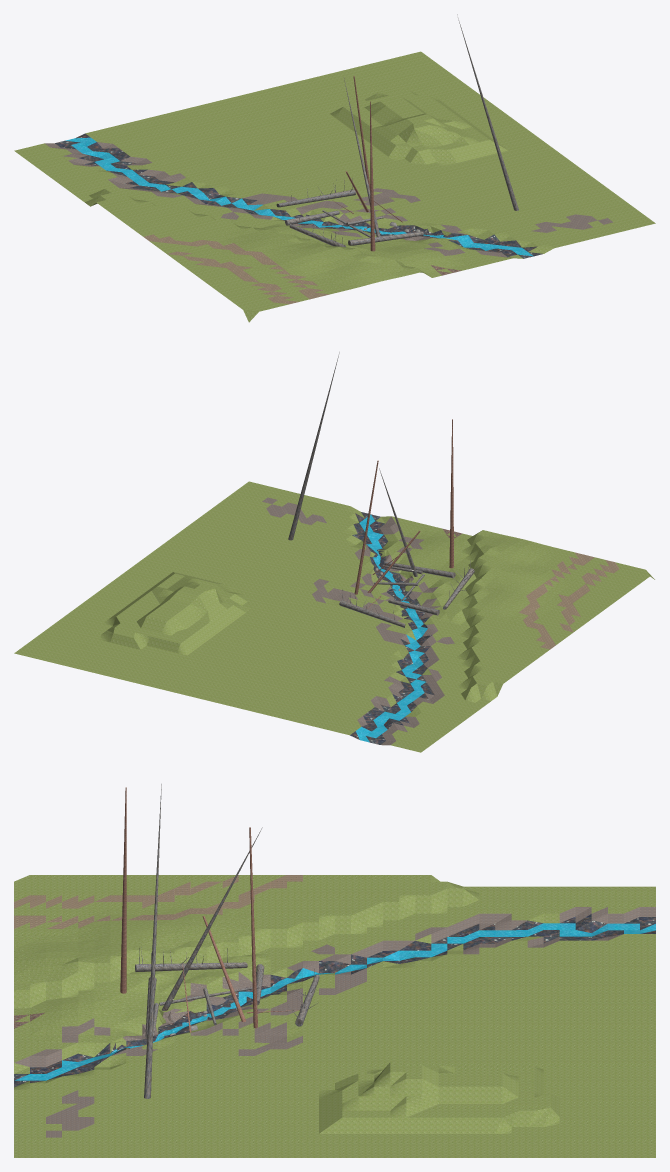
The model's file is CrandallFellingSceneAnim.glb.
The picture shows the model from 3 angles, top to bottom: view 1: azimuth 30°, elevation 25°; view 2: azimuth 150°, elevation 25°; view 3: azimuth 270°, elevation 25°; orthographic projection. The views are drawn at different scales.
Parts seen in each view (by area): view 1: SketchUp.314, SketchUp.316, SketchUp.319, SketchUp.318, SketchUp.320, SketchUp.339, SketchUp.329, SketchUp.275, SketchUp.341, SketchUp.330, SketchUp.328, SketchUp.282; view 2: SketchUp.314, SketchUp.316, SketchUp.319, SketchUp.318, SketchUp.339, SketchUp.320, SketchUp.329, SketchUp.275; view 3: SketchUp.314, SketchUp.316, SketchUp.319, SketchUp.318, SketchUp.320, SketchUp.339, SketchUp.275, SketchUp.348, SketchUp.329, SketchUp.341, SketchUp.328, SketchUp.330 (+10 smaller).
Boxes of the visible parts, x1,y1,x2,y2 form: SketchUp.314: (85,51,655,253); SketchUp.316: (14,143,512,294); SketchUp.319: (167,254,288,322); SketchUp.318: (150,241,309,301); SketchUp.320: (254,209,533,256); SketchUp.339: (65,137,171,191); SketchUp.329: (143,234,278,265); SketchUp.275: (457,14,518,210); SketchUp.341: (531,214,597,232); SketchUp.330: (183,256,259,282); SketchUp.328: (354,188,420,205); SketchUp.282: (370,101,375,251); SketchUp.314: (14,481,416,735); SketchUp.316: (378,516,578,752); SketchUp.319: (569,562,654,631); SketchUp.318: (533,557,608,644); SketchUp.339: (356,679,425,742); SketchUp.320: (359,514,427,640); SketchUp.329: (519,583,555,649); SketchUp.275: (288,352,339,540); SketchUp.314: (14,934,655,1157); SketchUp.316: (14,875,655,1062); SketchUp.319: (14,875,235,901); SketchUp.318: (14,875,285,922); SketchUp.320: (15,968,333,1080); SketchUp.339: (447,923,655,943); SketchUp.275: (144,784,161,1098); SketchUp.348: (415,913,527,943); SketchUp.329: (127,875,302,920); SketchUp.341: (46,1090,94,1130); SketchUp.328: (238,1022,302,1055); SketchUp.330: (95,881,221,908).
Bounding box in the file's own units: 60.96 × 30.19 × 60.96.
Materials: 13 (9 with a texture image).
